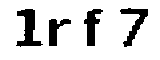1: (14, 7, 45, 50)
7: (117, 4, 151, 55)
f: (79, 5, 105, 54)
r: (47, 14, 73, 51)
